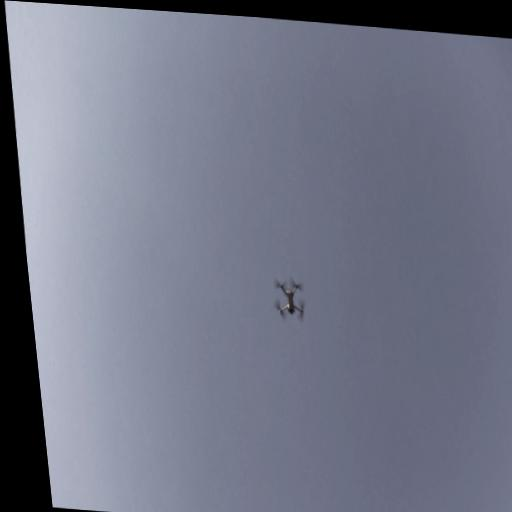drones: (266, 266, 313, 337)
